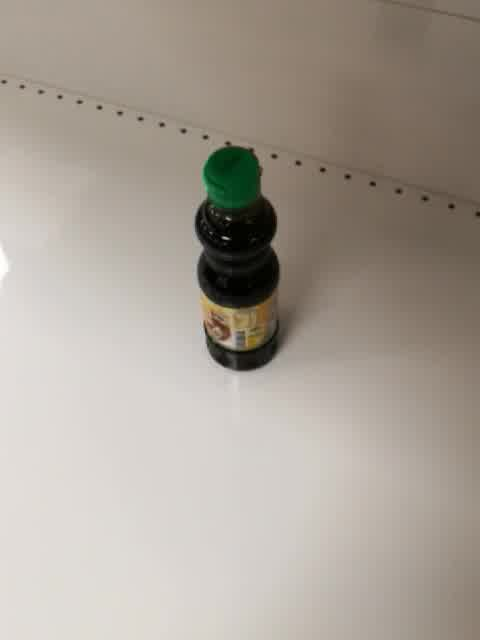cookingoil: (191, 144, 283, 374)
